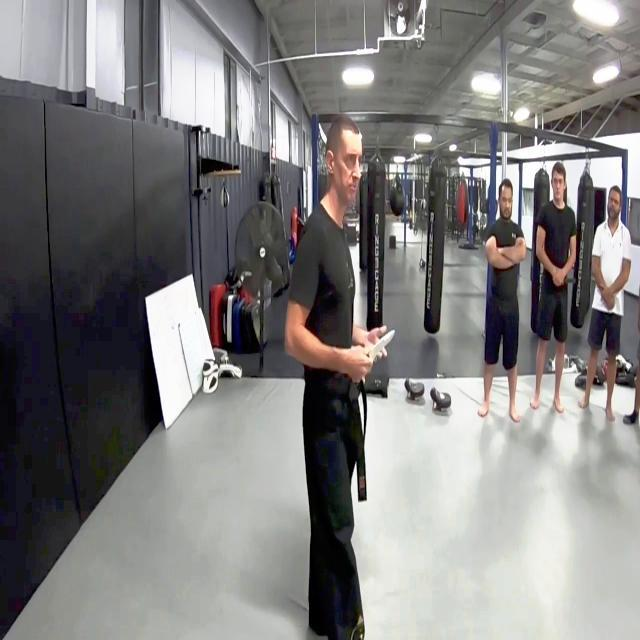Knife: (370, 316, 406, 376)
